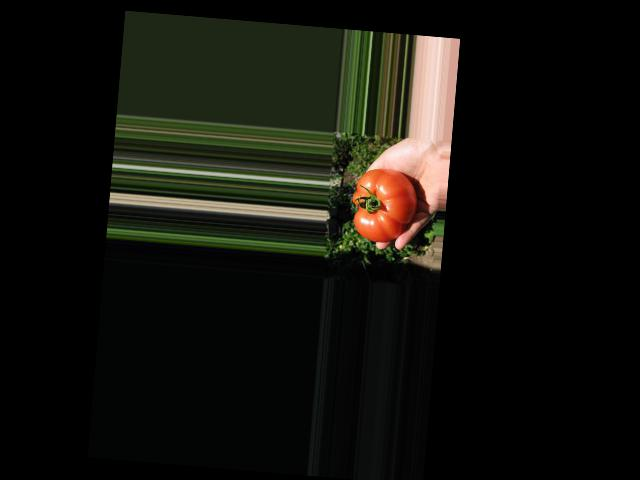tomato: (349, 167, 419, 245)
